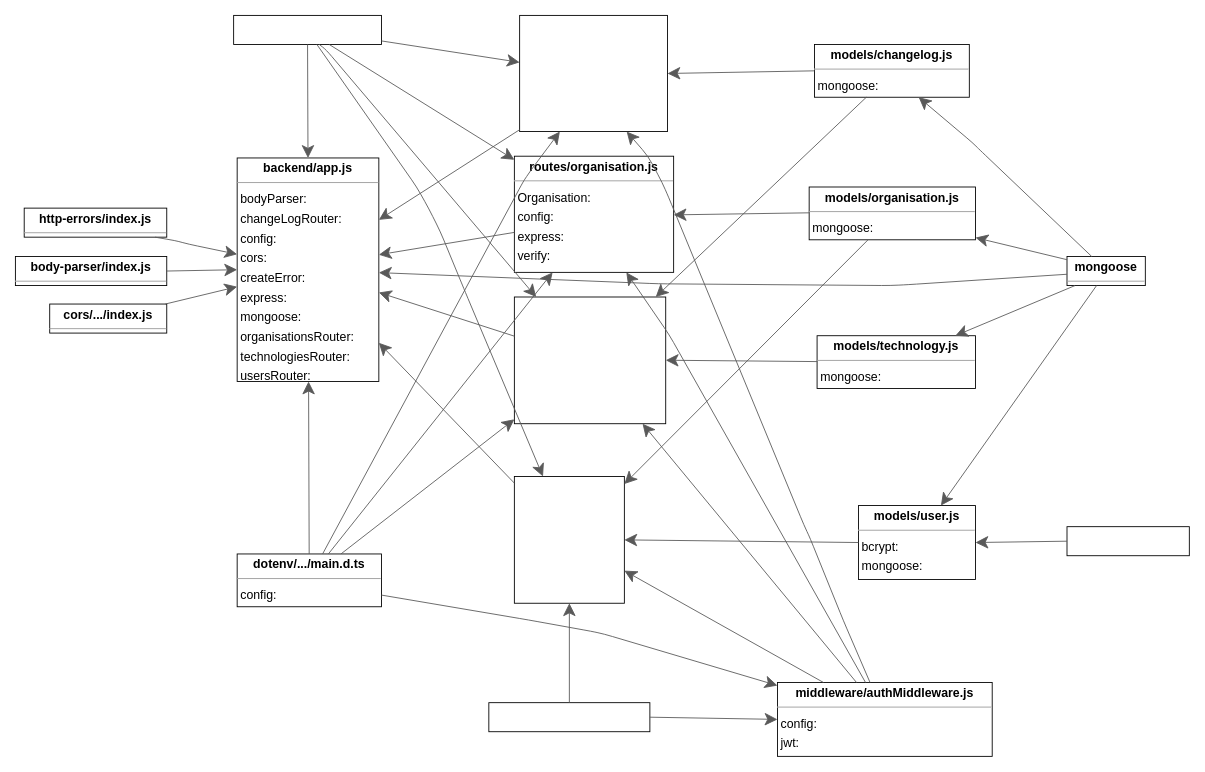
Image size: 1205x772. Some labels were removed from this diagram. Here are the shapes that lost their labels. From the top down, the centre of each, then its label:
(307,29): @types/.../index.d.ts
(593,73): routes/changelog.js ChangeLog: config: express: verify:
(589,360): routes/technology.js ChangeLog: Technology: config: express: verify:
(568,539): routes/user.js Organisation: User: express: jwt: verify:
(1127,541): bcrypt/bcrypt.js
(569,717): jsonwebtoken/index.js
